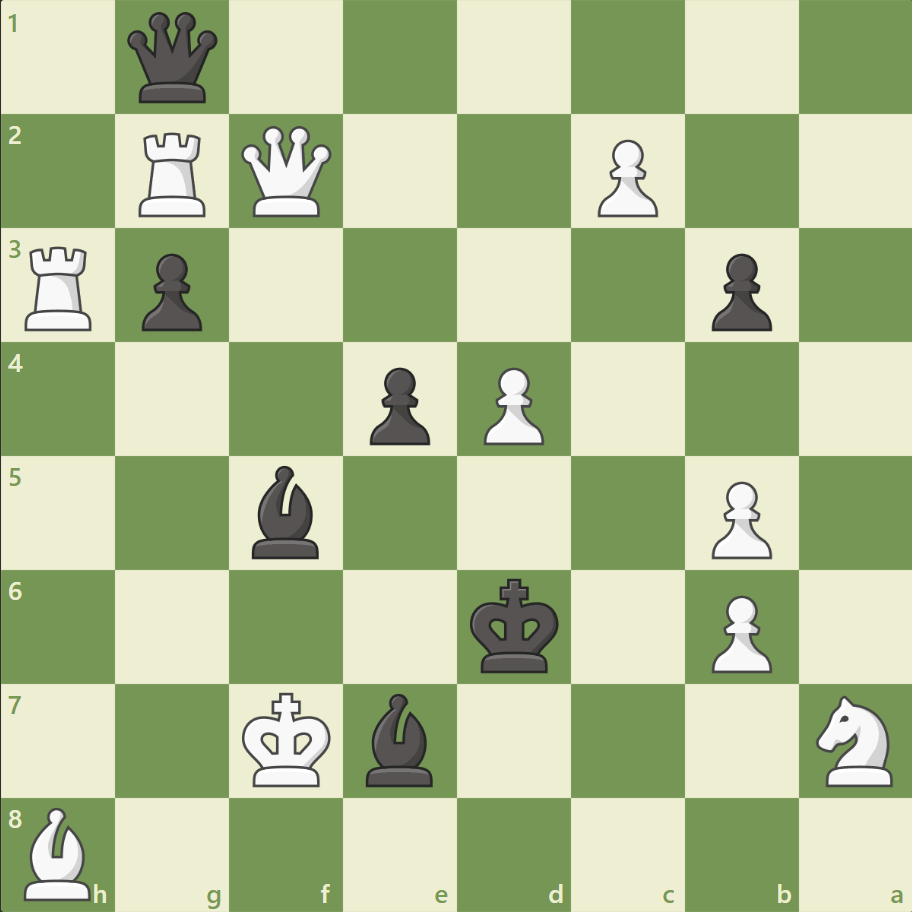B: (17, 801, 101, 904)
K: (238, 685, 338, 793)
N: (806, 688, 903, 791)
P: (701, 586, 776, 677), (701, 473, 776, 564), (474, 359, 549, 450), (588, 132, 662, 223)
Q: (237, 122, 336, 222)
R: (19, 239, 102, 336), (133, 125, 215, 222)
b: (358, 687, 442, 790), (244, 460, 328, 563)
k: (465, 571, 565, 679)
p: (701, 246, 776, 337), (133, 246, 208, 337), (361, 359, 435, 450)
q: (124, 9, 223, 108)
